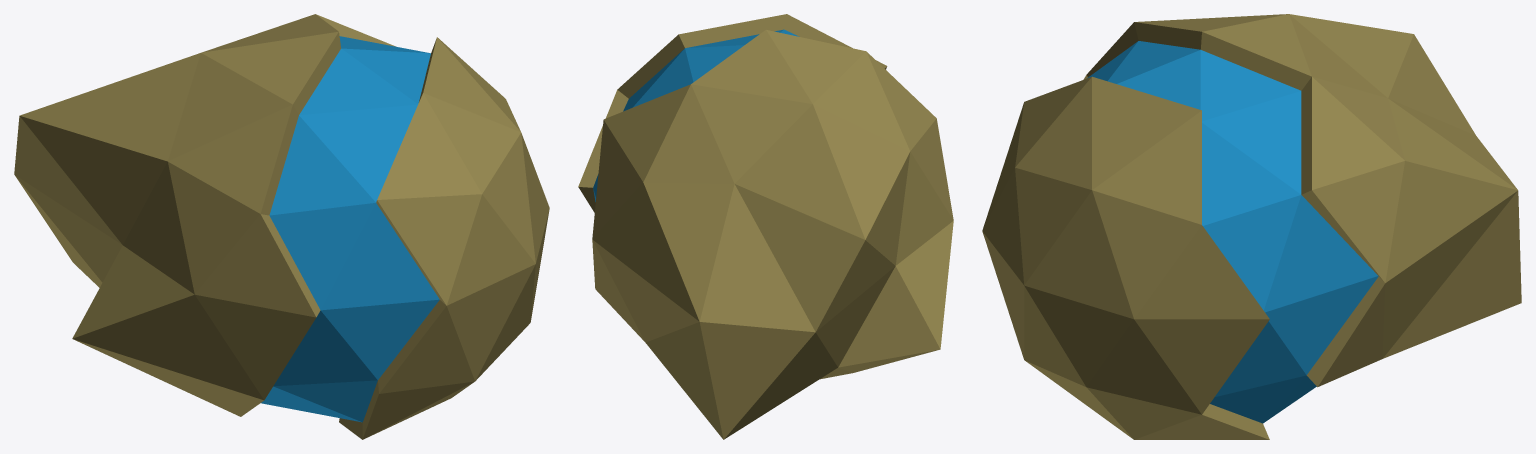
Rendered from planet1.fbx.
3 views of the same model, side by side, from view 1: azimuth 30°, elevation 25°; view 2: azimuth 150°, elevation 25°; view 3: azimuth 270°, elevation 25° (orthographic). The views are drawn at different scales.
Parts seen in each view (by area): view 1: Icosphere; view 2: Icosphere; view 3: Icosphere.
Boxes of the visible parts, x1,y1,x2,y2 form: Icosphere: (14,14,549,439); Icosphere: (578,14,953,439); Icosphere: (982,14,1521,439).
Bounding box in the file's own units: 219 × 200 × 245.
